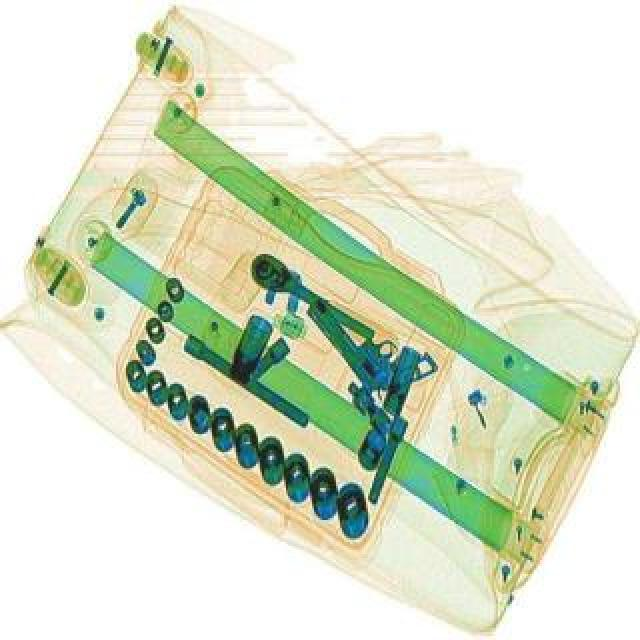gun: (308, 272, 444, 410)
